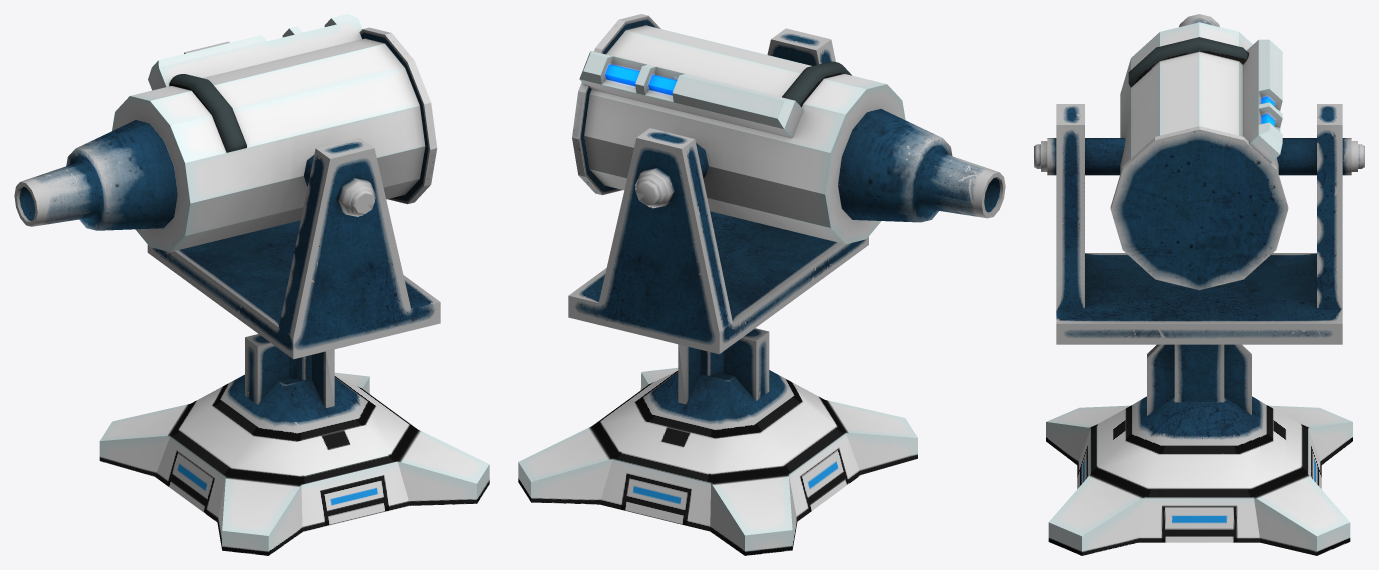
File: Yttrium.glb
3 views of the same model, side by side, from view 1: azimuth 30°, elevation 25°; view 2: azimuth 150°, elevation 25°; view 3: azimuth 270°, elevation 25° (orthographic). The views are drawn at different scales.
Parts seen in each view (by area): view 1: Object_3; view 2: Object_3; view 3: Object_3.
Boxes of the visible parts, box(x1,y1,x2,y2) form: Object_3: box(14, 14, 489, 555); Object_3: box(518, 14, 1005, 555); Object_3: box(1034, 14, 1364, 555).
Bounding box in the file's own units: 6.07 × 5.99 × 4.4.
1 material, 1 textured.
